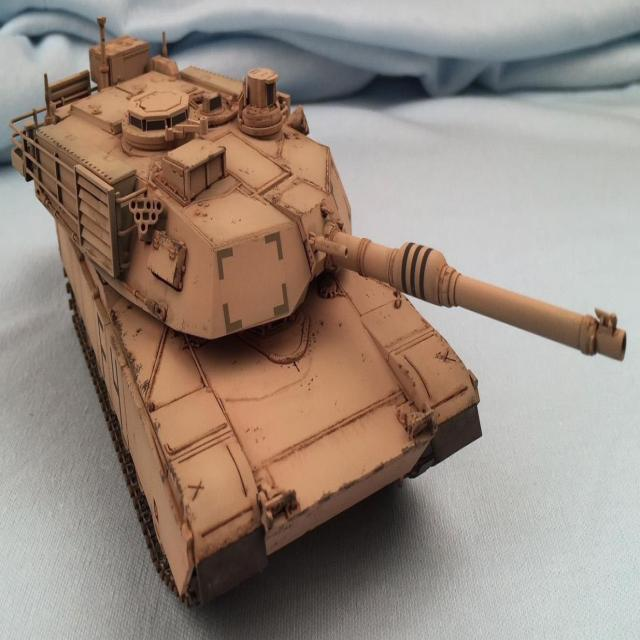Tanks: (9, 17, 568, 620)
